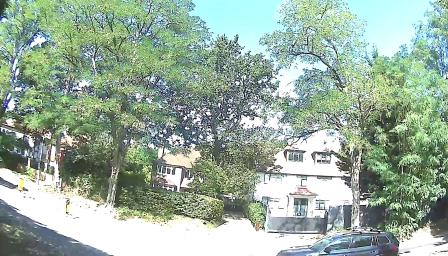Cars: (260, 223, 411, 256)
